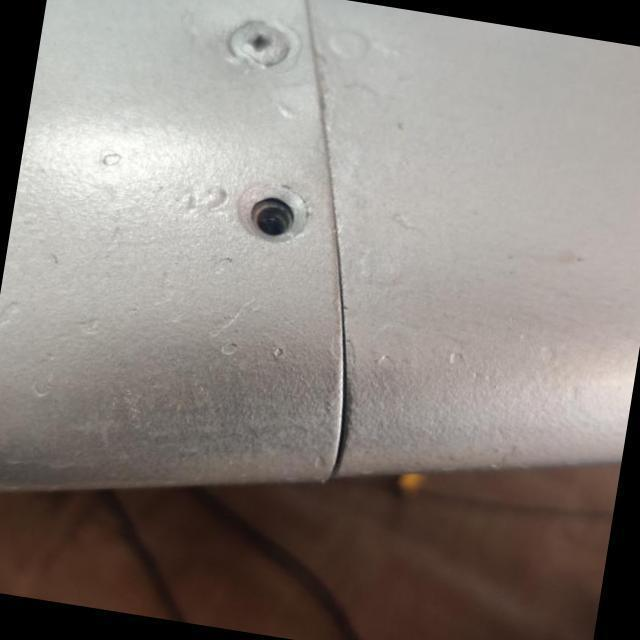Fastener Damage: (195, 134, 356, 288)
